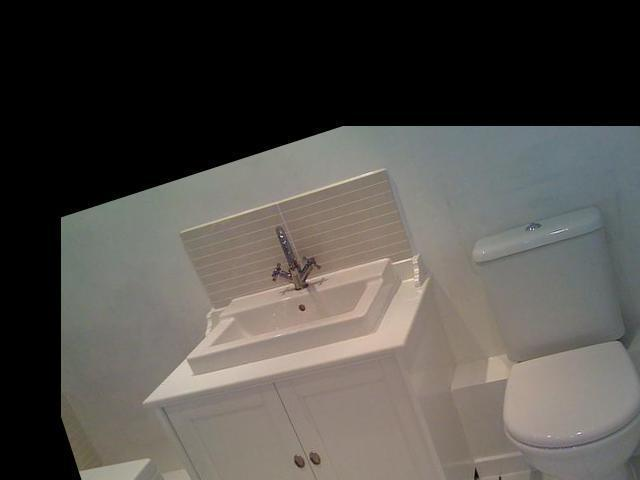Lavamanos: (164, 193, 418, 389)
Sanitario: (444, 197, 640, 480)
